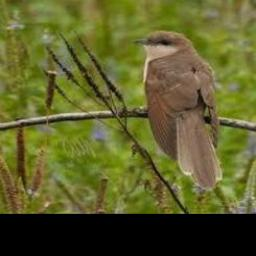Cuckoo: (133, 30, 223, 190)
